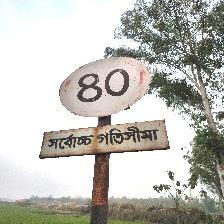Speed-limit: (42, 55, 166, 159)
